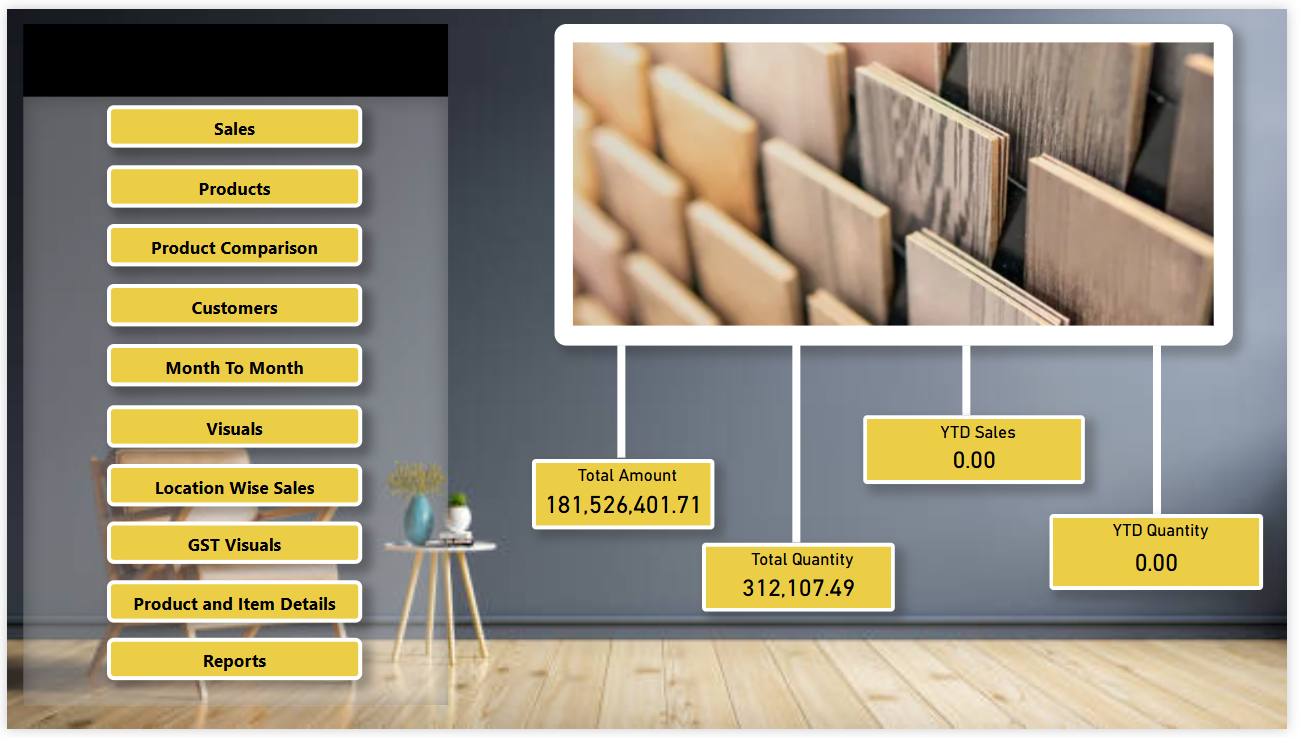

Layout of this report page (visuals, bound fields, positions):
{"tool":"powerbi","page":{"name":"Home","canvas":[1280,720],"ordinal":0},"visuals":[{"type":"shape","box":[16.2,87.5,425,608.8],"z":0},{"type":"actionButton","box":[100.2,96.2,255,42.5],"z":2000},{"type":"actionButton","box":[100.2,156.2,255,42.5],"z":3000},{"type":"actionButton","box":[100.2,215,255,42.5],"z":4000},{"type":"actionButton","box":[100.2,275,255,42.5],"z":5000},{"type":"actionButton","box":[100.2,335,255,42.5],"z":6000},{"type":"actionButton","box":[100.2,396.2,255,42.5],"z":7000},{"type":"actionButton","box":[100.2,455,255,42.5],"z":8000},{"type":"actionButton","box":[100.2,512.5,255,42.5],"z":9000},{"type":"actionButton","box":[100.2,571.2,255,42.5],"z":10000},{"type":"actionButton","box":[100.2,628.8,255,42.5],"z":11000},{"type":"image","box":[547.5,15,678.8,321.2],"z":12000},{"type":"shape","box":[588.8,336.2,51.2,112.5],"z":13000},{"type":"shape","box":[763.8,333.8,51.2,200],"z":14000},{"type":"shape","box":[933.8,336.2,51.2,70],"z":15000},{"type":"shape","box":[1123.8,336.2,52.5,171.2],"z":16000},{"type":"card","title":"YTD Sales","fields":{"Values":["Dax.YTD Sales"]},"box":[856.2,406.2,221.2,68.8],"z":17000},{"type":"card","title":"YTD Quantity","fields":{"Values":["Dax.YTD Quantity"]},"box":[1042.5,505,213.8,76.2],"z":18000},{"type":"card","title":"Total Amount","fields":{"Values":["Sum(Sales_Data.Amount)"]},"box":[525,450,182.5,70],"z":19000},{"type":"card","title":"Total Quantity","fields":{"Values":["Sum(Sales_Data.Quantity)"]},"box":[695,533.8,192.5,68.8],"z":20000},{"type":"shape","box":[16.2,15,425,72.5],"z":21001}]}

Visuals, with their boxes in screenshot pixels (x1, y1, x2, y2), scaled from the page's 1280x720 canvas onto the 1300x738 screenshot:
shape: 16 90 448 714
actionButton: 102 99 361 142
actionButton: 102 160 361 204
actionButton: 102 220 361 264
actionButton: 102 282 361 325
actionButton: 102 343 361 387
actionButton: 102 406 361 450
actionButton: 102 466 361 510
actionButton: 102 525 361 569
actionButton: 102 585 361 629
actionButton: 102 645 361 688
image: 556 15 1245 345
shape: 598 345 650 460
shape: 776 342 828 547
shape: 948 345 1000 416
shape: 1141 345 1195 520
"YTD Sales" card: 870 416 1094 487
"YTD Quantity" card: 1059 518 1276 596
"Total Amount" card: 533 461 719 533
"Total Quantity" card: 706 547 901 618
shape: 16 15 448 90
